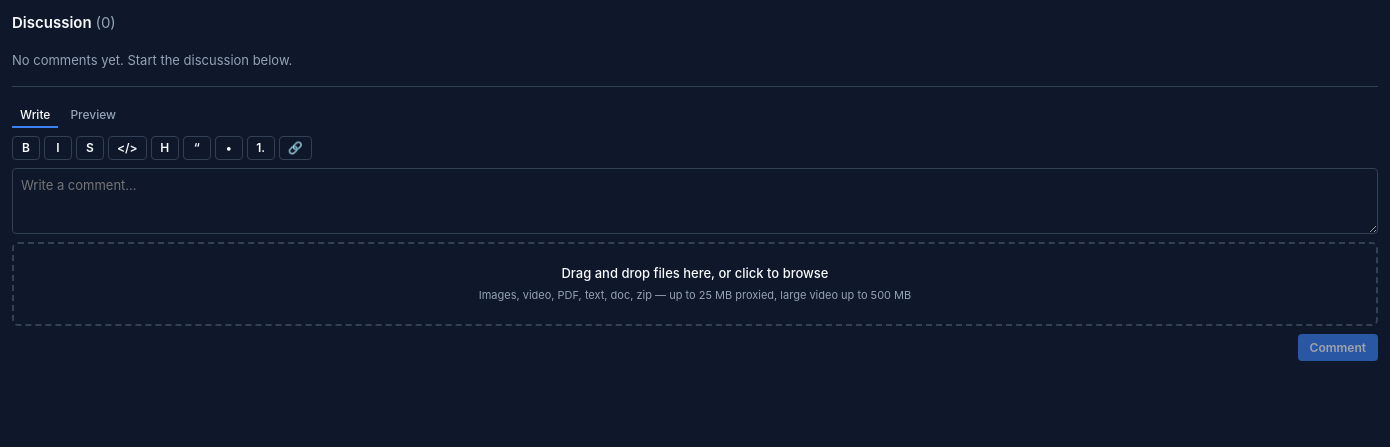
Test case: CommentThread › submits the root composer, POSTing bodyMd + attachmentIds and refreshing via poll
Expected: the text "No comments yet. Start the discussion below." is shown, [12,52,292,68]
Type "New comment" into the text box labelled "Write a comment…" at (695, 201), box [12,168,1378,234]
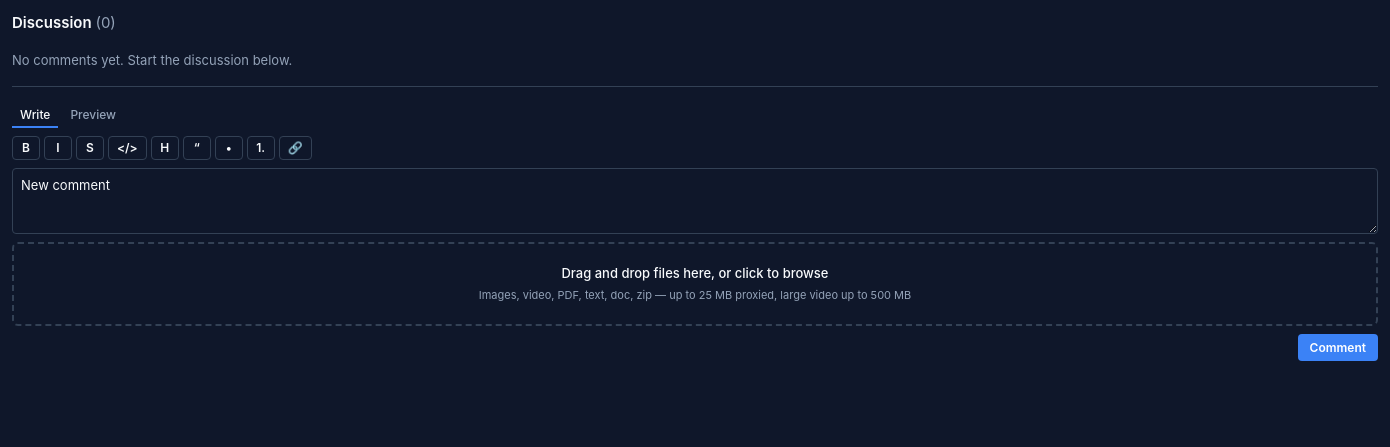
Click the button "Comment" at (1338, 347), box [1298,334,1378,361]
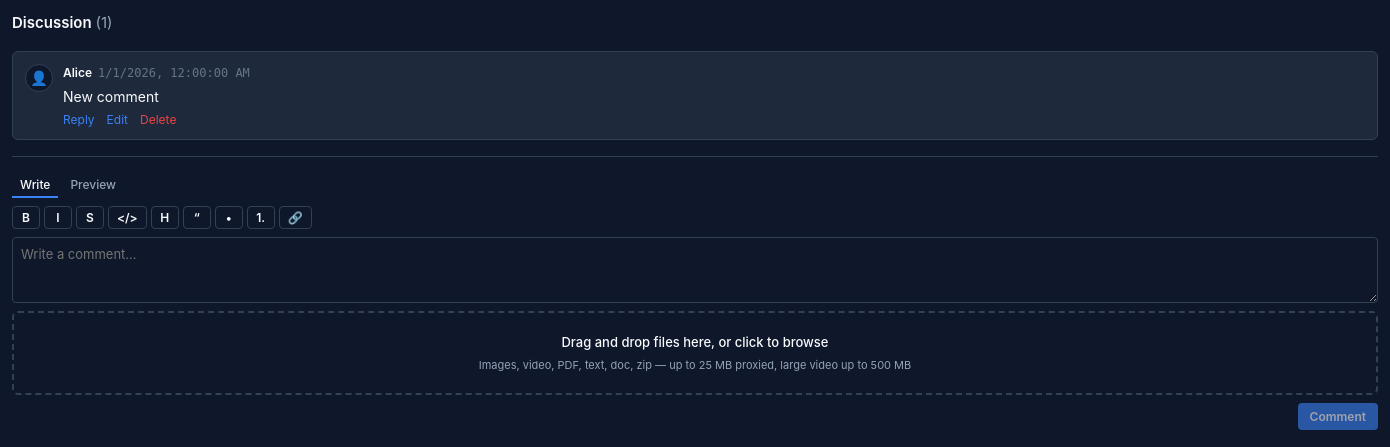
Expected: the text "New comment" is shown, [63,88,159,104]
